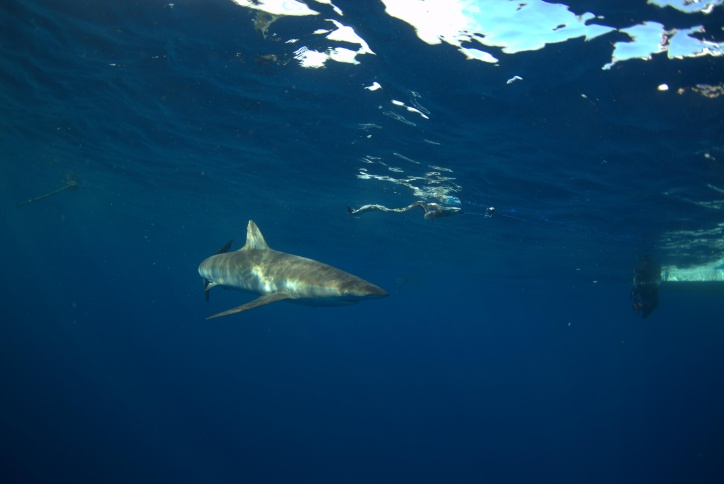Sedoso: (174, 211, 403, 331)
